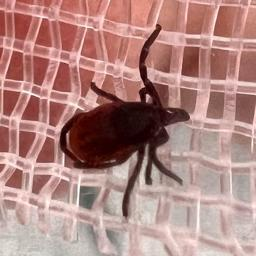Ixodes scapularis: (63, 24, 188, 215)
